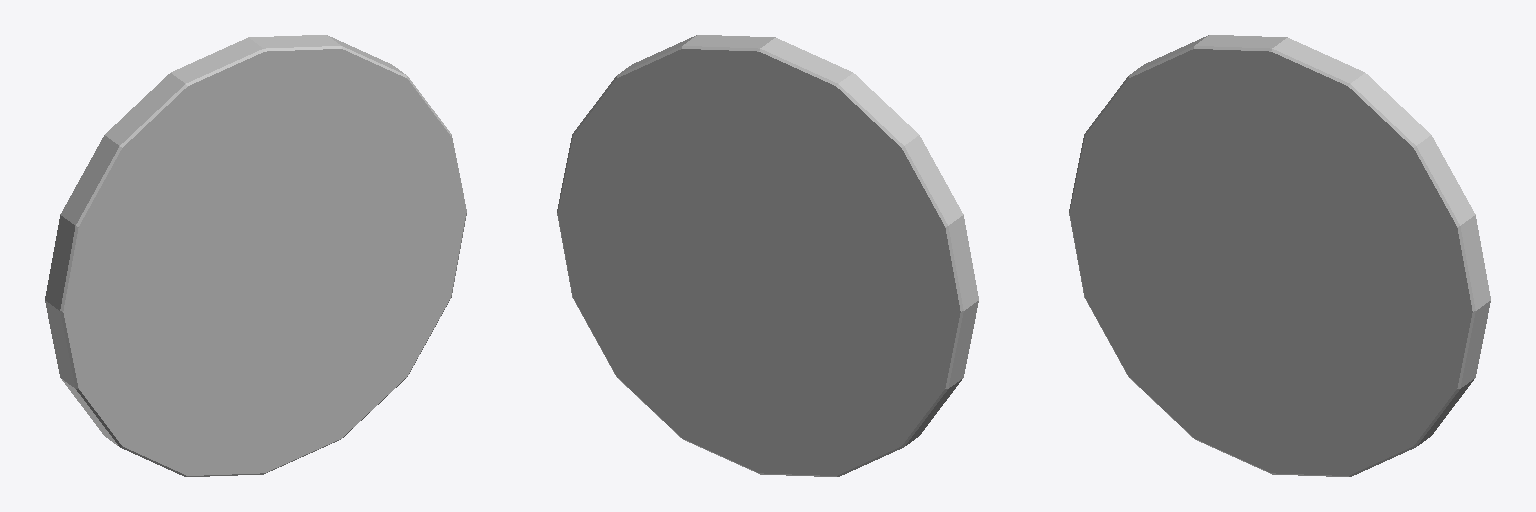
Rendered from target.obj.
The picture shows the model from 3 angles: view 1: azimuth 30°, elevation 25°; view 2: azimuth 150°, elevation 25°; view 3: azimuth 330°, elevation 25°; orthographic projection.
Parts seen in each view (by area): view 1: target; view 2: target; view 3: target.
Part boxes in pixels (bbox=[...]): target: bbox=[45, 35, 466, 476]; target: bbox=[557, 35, 978, 476]; target: bbox=[1069, 35, 1490, 476].
Size of the model in its own units: 60 by 60 by 4.5.